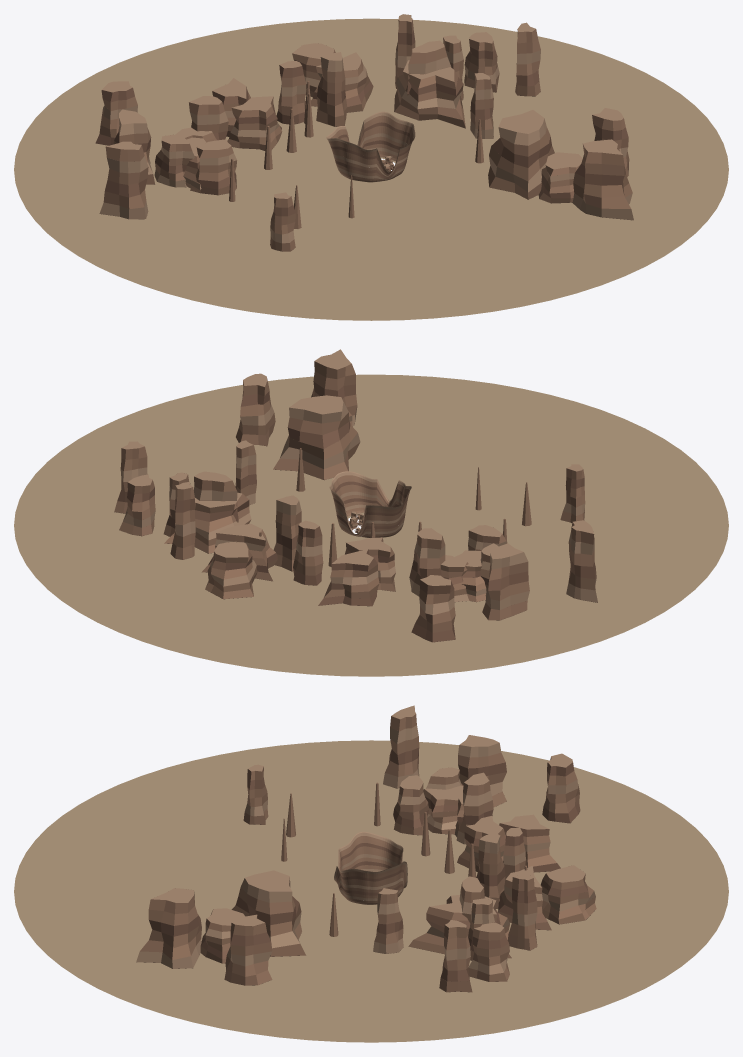
The model's file is canyon.glb.
3 views of the same model, one above another, from view 1: azimuth 30°, elevation 25°; view 2: azimuth 150°, elevation 25°; view 3: azimuth 270°, elevation 25° (orthographic).
Parts seen in each view (by area): view 1: CanyonFar, CanyonWalls; view 2: CanyonFar, CanyonWalls; view 3: CanyonFar, CanyonWalls.
Boxes of the visible parts, x1,y1,x2,y2 form: CanyonFar: [14, 14, 728, 320]; CanyonWalls: [326, 111, 415, 182]; CanyonFar: [14, 349, 728, 676]; CanyonWalls: [329, 471, 411, 537]; CanyonFar: [14, 705, 728, 1042]; CanyonWalls: [334, 831, 407, 904].
Bounding box in the file's own units: 2800 × 297 × 2800.
